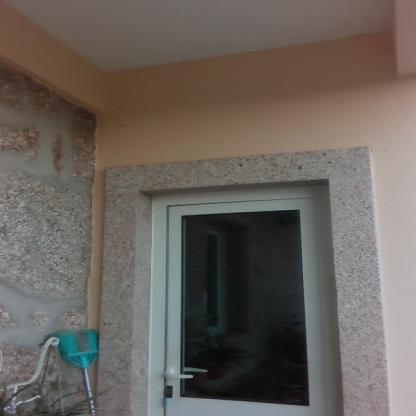door: (164, 206, 334, 416)
lever: (161, 372, 197, 382)
